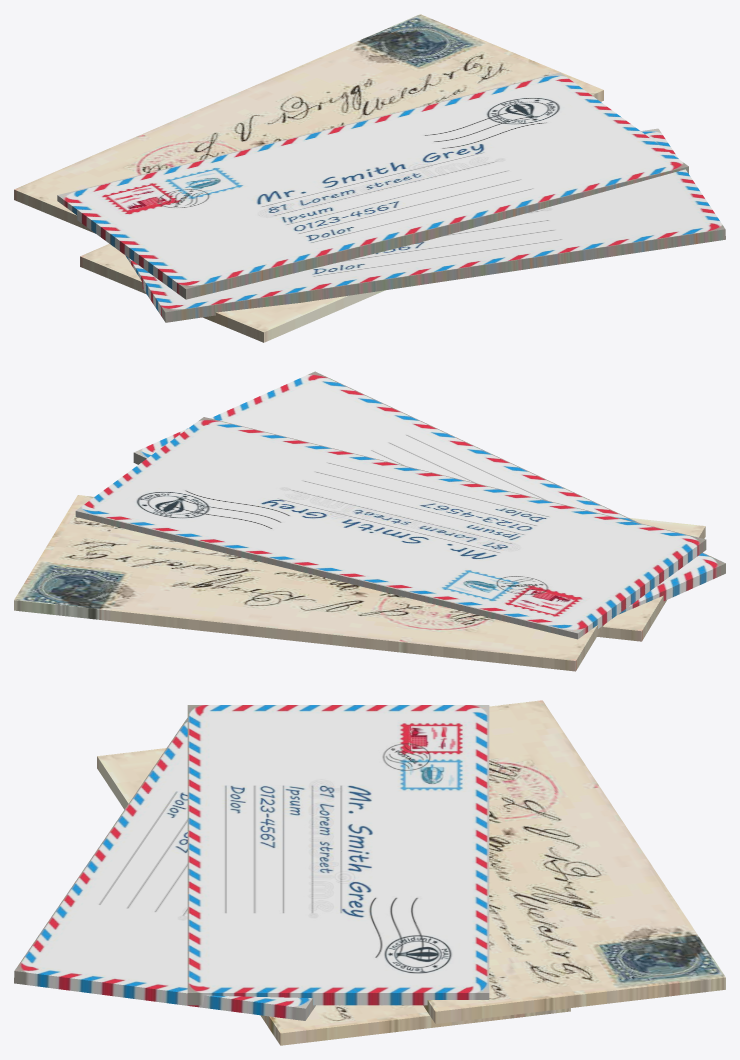
Rendered from mail.fbx.
3 views of the same model, one above another, from view 1: azimuth 30°, elevation 25°; view 2: azimuth 150°, elevation 25°; view 3: azimuth 270°, elevation 25° (orthographic). The views are drawn at different scales.
Visible parts, largest first — view 1: pCube5; view 2: pCube5; view 3: pCube5.
Part boxes in pixels (bbox=[...]): pCube5: bbox=[14, 14, 725, 342]; pCube5: bbox=[14, 371, 725, 671]; pCube5: bbox=[14, 700, 725, 1045].
Size of the model in its own units: 8.7 by 0.5414 by 8.4.
1 material, 1 textured.
